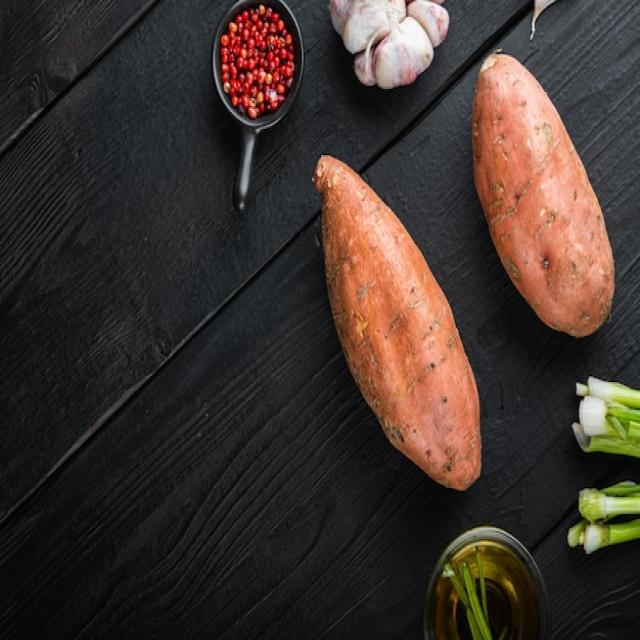Potato: (306, 128, 505, 511), (462, 34, 629, 364)
